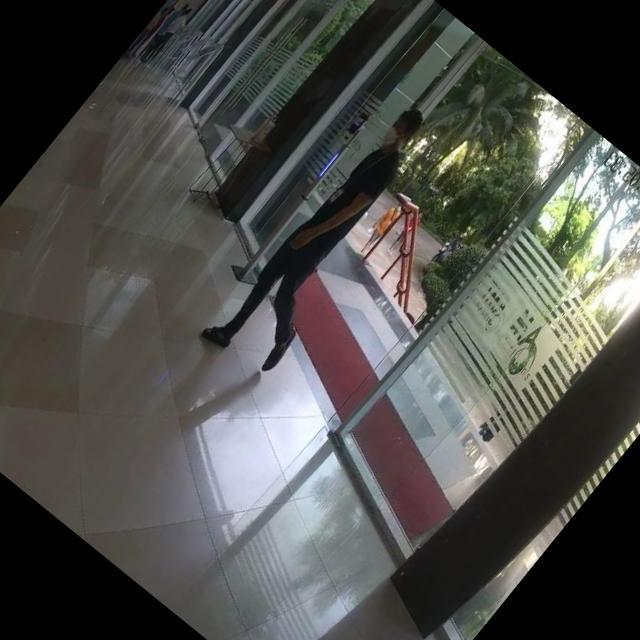person: (205, 90, 458, 376)
